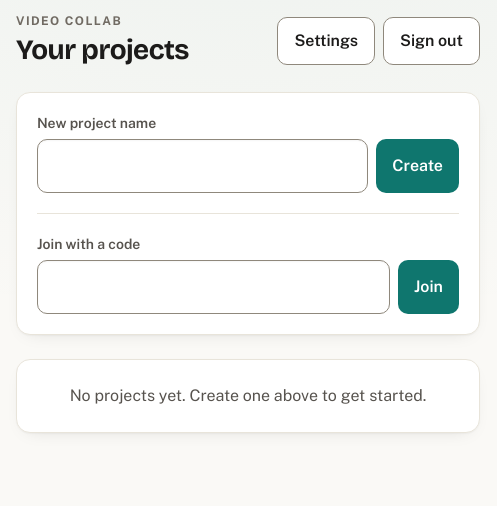
Test case: ProjectsPage — join with a code › shows the right message for expired_code
This screenshot has width=497, height=506.
Expected: the text "No projects yet. Create one above to get started." is shown, x1=41 y1=384 x2=455 y2=408
Step 1. Type "0000" into the field labelled "Join with a code" → (214, 287), box x1=37 y1=260 x2=390 y2=314
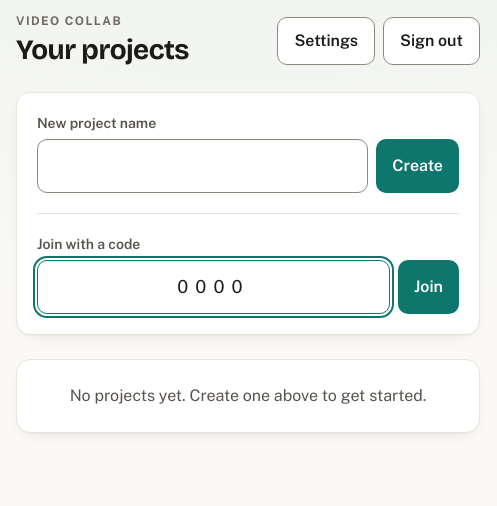
Step 2. Click the button "Join" → (428, 287), box x1=398 y1=260 x2=459 y2=314
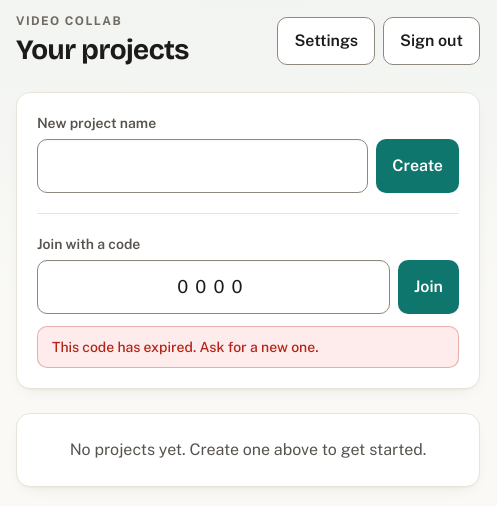
Expected: the text "This code has expired. Ask for a new one." is shown, x1=37 y1=326 x2=459 y2=368
